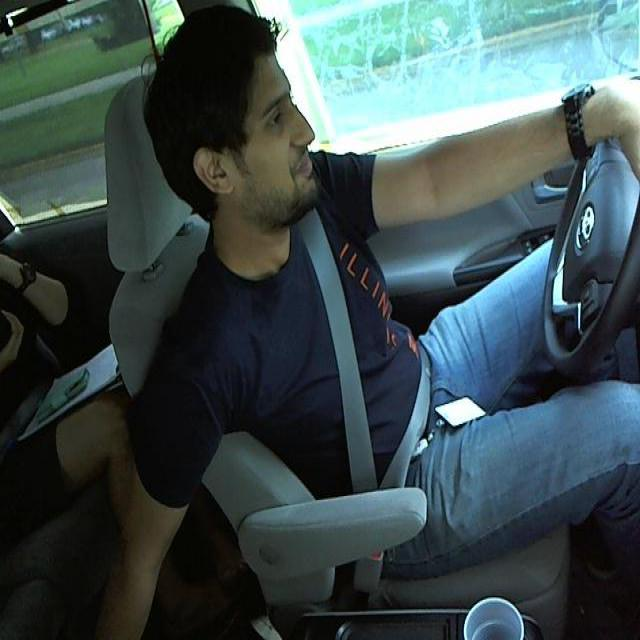seatbelt: (290, 237, 440, 488)
